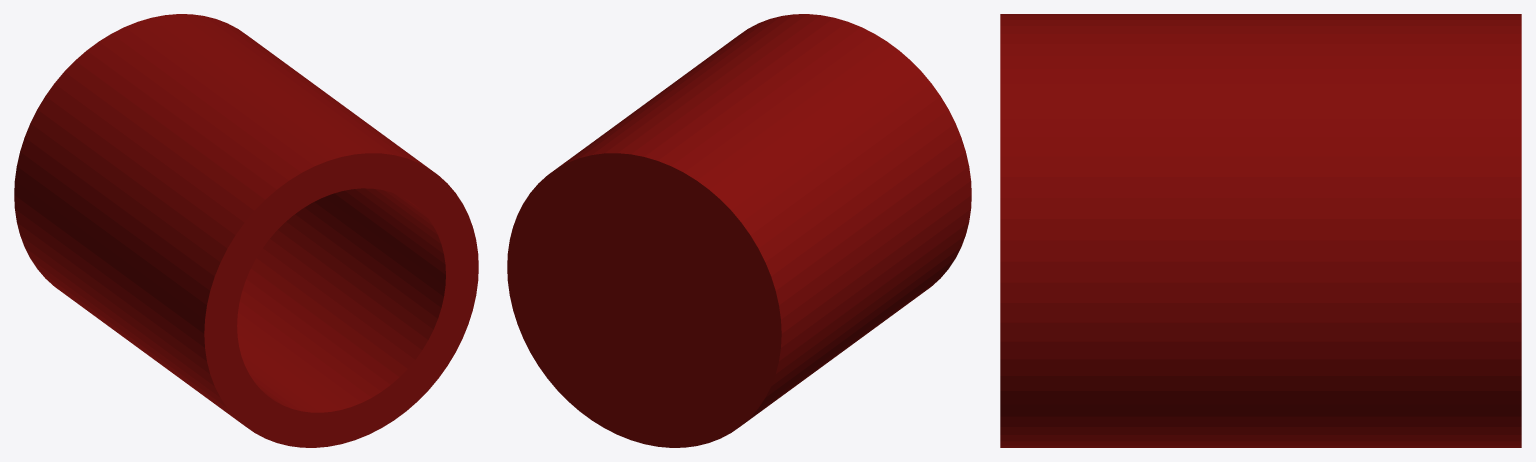
Rendered from barrier.obj.
3 views of the same model, side by side, from view 1: azimuth 30°, elevation 25°; view 2: azimuth 150°, elevation 25°; view 3: azimuth 270°, elevation 25° (orthographic). The views are drawn at different scales.
Parts seen in each view (by area): view 1: barrier.001_Cylinder; view 2: barrier.001_Cylinder; view 3: barrier.001_Cylinder.
Boxes of the visible parts, box(x1,y1,x2,y2) form: barrier.001_Cylinder: box(14, 14, 478, 447); barrier.001_Cylinder: box(507, 14, 971, 447); barrier.001_Cylinder: box(1000, 14, 1521, 447).
Size of the model in its own units: 0.1 by 0.1 by 0.12.
